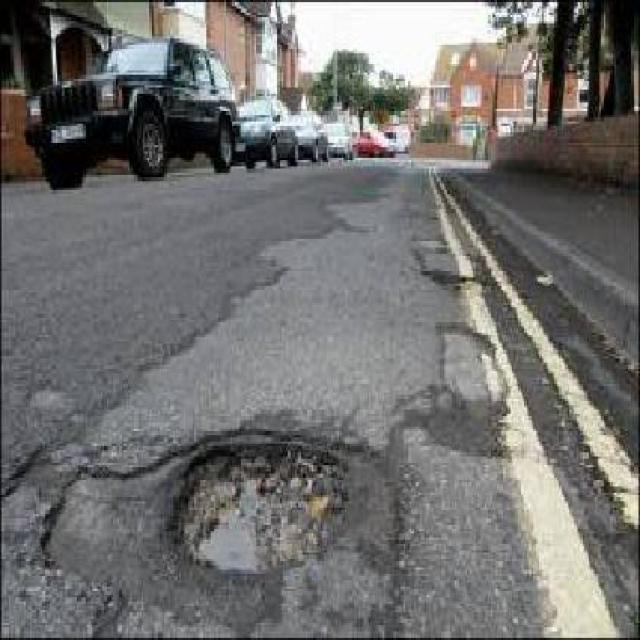pothole: (167, 431, 360, 578)
